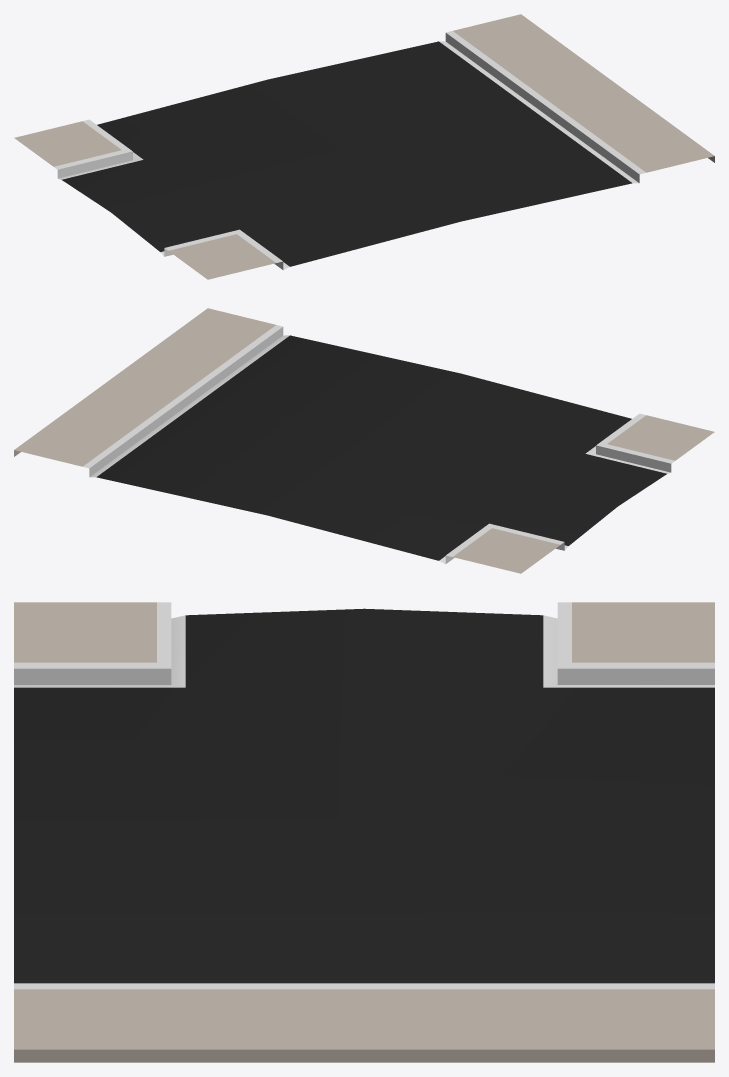
Rendered from Cruzamento_T_2x4_Faixas.fbx.
3 views of the same model, one above another, from view 1: azimuth 30°, elevation 25°; view 2: azimuth 150°, elevation 25°; view 3: azimuth 270°, elevation 25° (orthographic). The views are drawn at different scales.
Visible parts, largest first — view 1: Cruzamento_T_2x4_Faixas; view 2: Cruzamento_T_2x4_Faixas; view 3: Cruzamento_T_2x4_Faixas.
Boxes of the visible parts, x1,y1,x2,y2 form: Cruzamento_T_2x4_Faixas: [14, 14, 714, 279]; Cruzamento_T_2x4_Faixas: [14, 308, 714, 573]; Cruzamento_T_2x4_Faixas: [14, 602, 714, 1062].
Bounding box in the file's own units: 1480 × 25 × 980.
